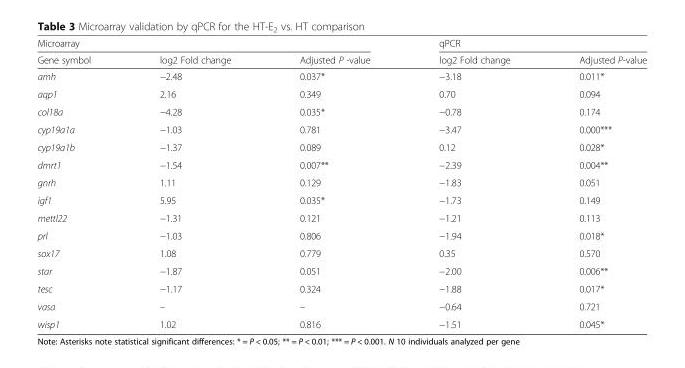table: (36, 37, 646, 329)
table column: (403, 37, 544, 329), (124, 37, 264, 329), (264, 37, 403, 329), (544, 37, 646, 329), (36, 37, 124, 329)
table column header: (36, 37, 646, 67)
table row: (36, 84, 646, 102), (36, 102, 646, 120), (36, 137, 646, 155), (36, 155, 646, 173), (36, 190, 646, 208), (36, 208, 646, 226), (36, 226, 646, 244), (36, 261, 646, 279), (36, 279, 646, 297), (36, 67, 646, 84), (36, 120, 646, 137), (36, 173, 646, 190), (36, 244, 646, 261), (36, 297, 646, 314), (36, 51, 646, 67), (36, 314, 646, 329), (36, 37, 646, 51)
table spanning cell: (36, 37, 403, 51), (403, 37, 646, 51)
